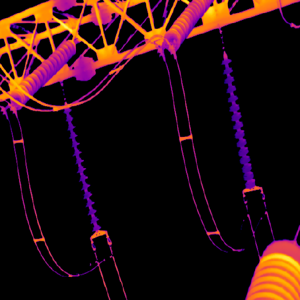insulator: (62, 101, 100, 232), (9, 38, 76, 108), (222, 50, 256, 186), (161, 0, 211, 51)
